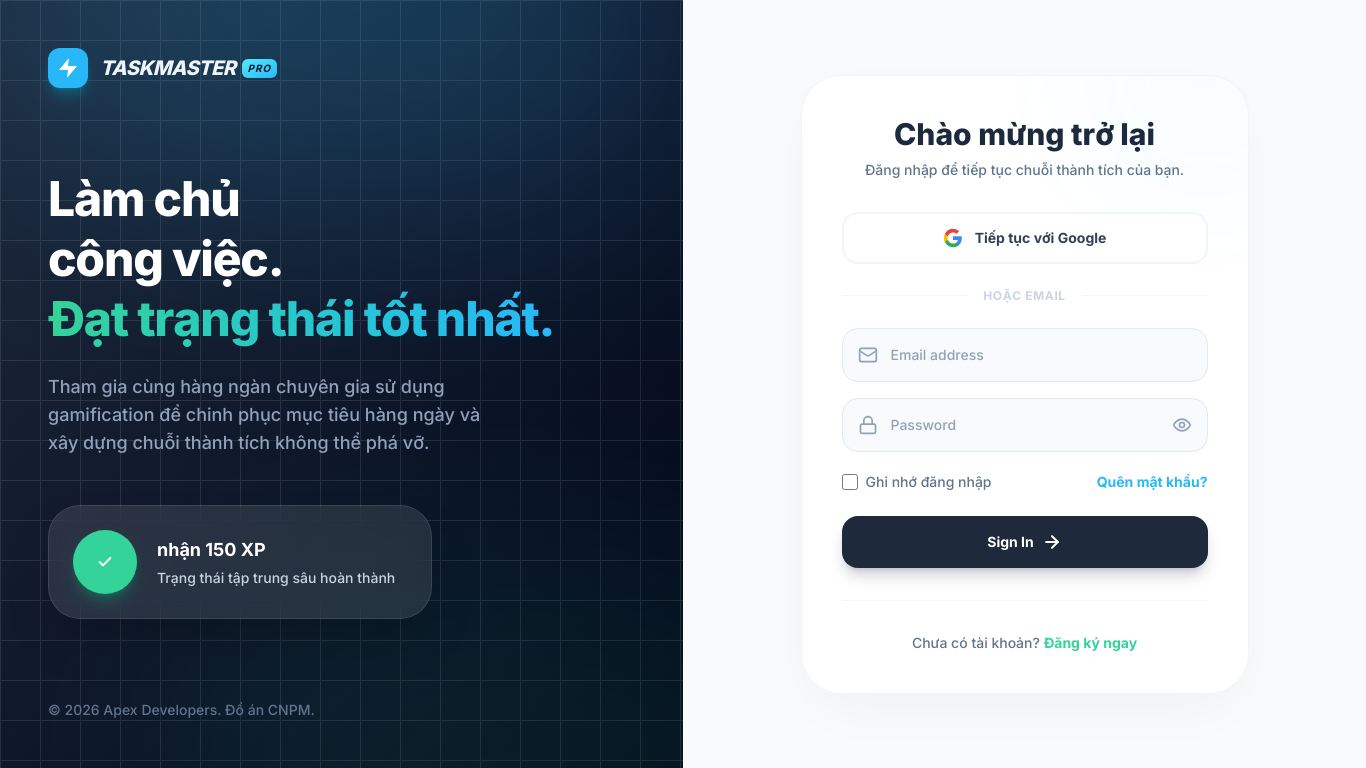
Test: Login & Register UI Flow › shows generic mock error if backend auth API fails
This screenshot has width=1366, height=768.
Type "test@example.com" into the field with placeholder "Email address". click: (1024,354)
box: [842,328,1208,382]
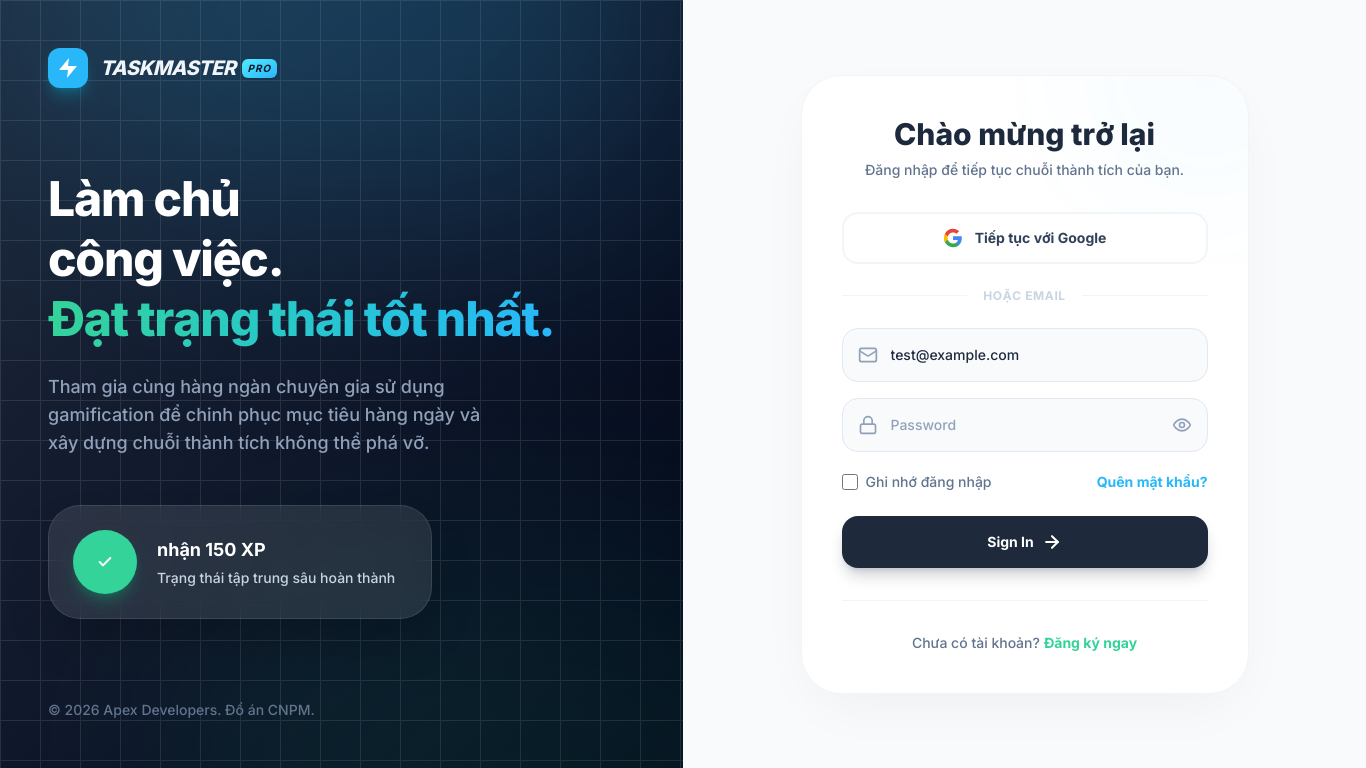
Type "wrongpass" into the password field with placeholder "Password". click: (1024,424)
box: [842,398,1208,452]
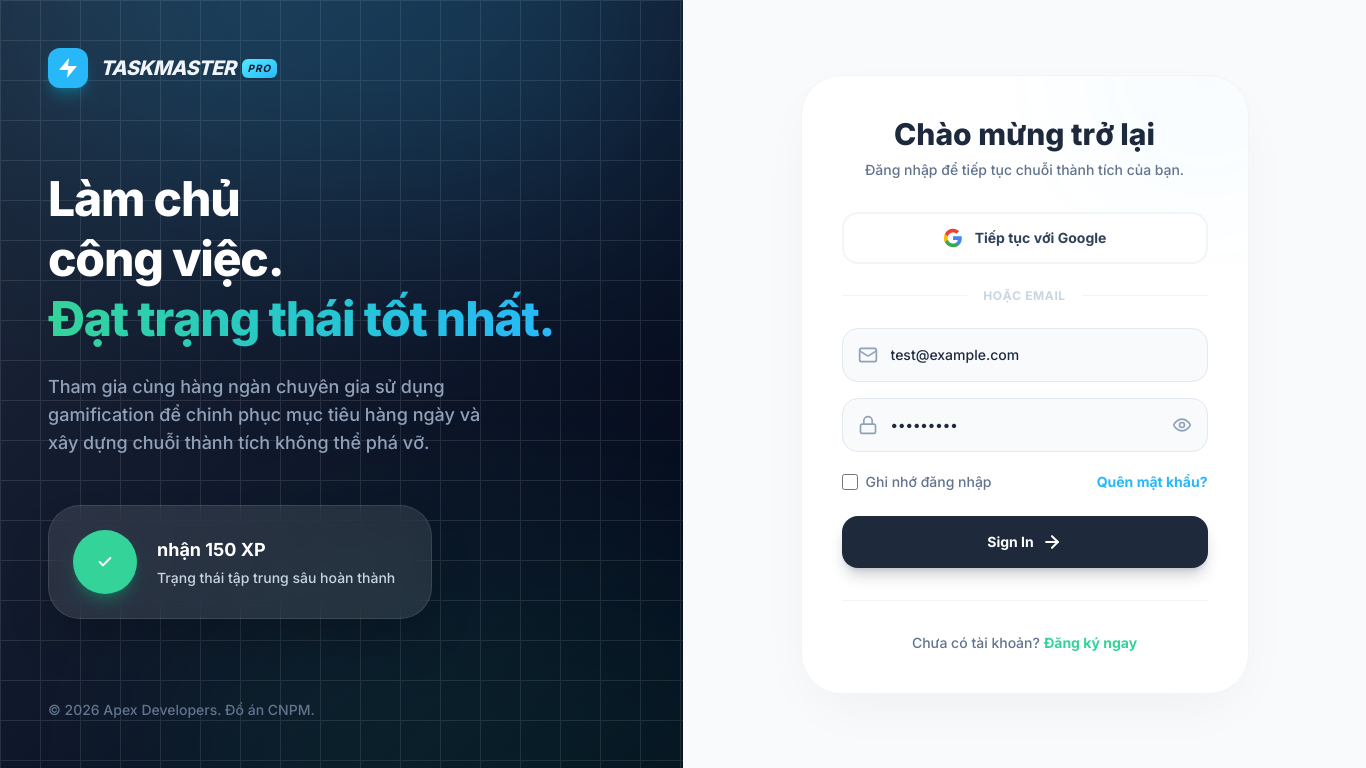
Click the button "Sign In". click: (1024,542)
box: [842,516,1208,568]
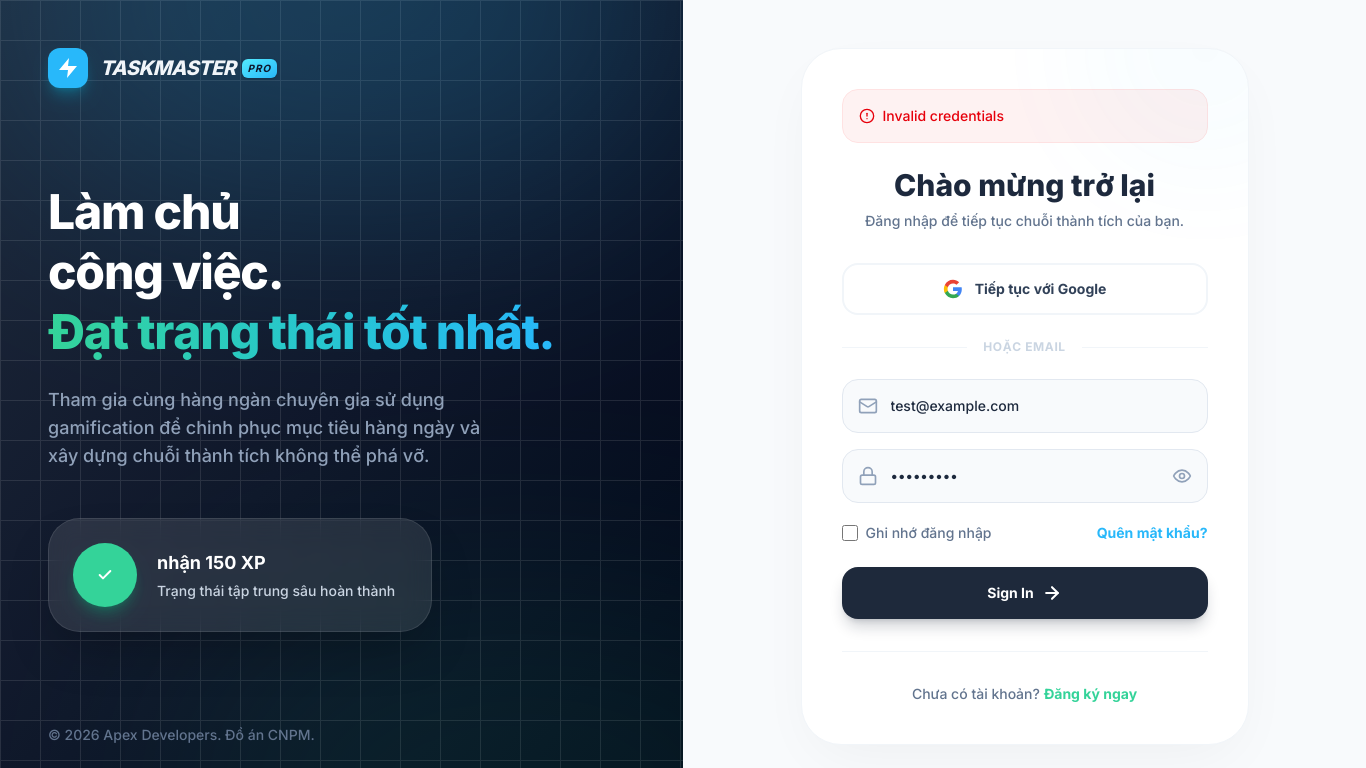
Expected: the text "Invalid credentials" is shown, [842,89,1208,143]
